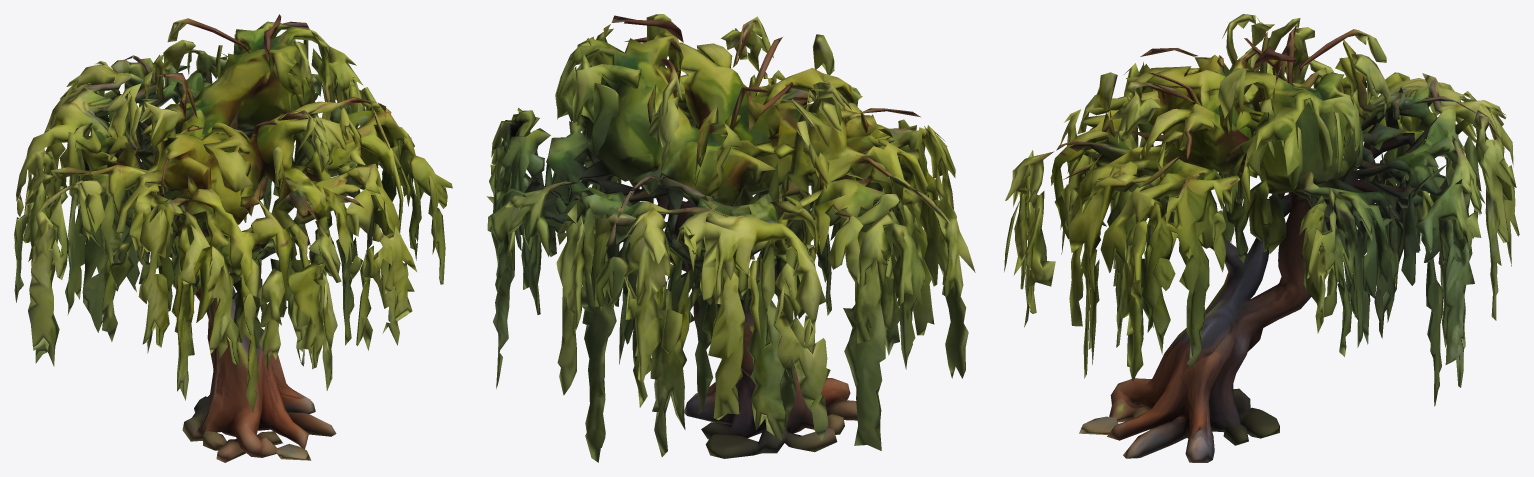
File: willow.glb
3 renders of one model, left to right at view 1: azimuth 30°, elevation 25°; view 2: azimuth 150°, elevation 25°; view 3: azimuth 270°, elevation 25°, orthographic. The views are drawn at different scales.
Visible parts, largest first — view 1: tripo_node_85bd1772-6d5d-450f-a834-8e45dceb9944; view 2: tripo_node_85bd1772-6d5d-450f-a834-8e45dceb9944; view 3: tripo_node_85bd1772-6d5d-450f-a834-8e45dceb9944.
Part boxes in pixels (x1,y1,x2,y2): tripo_node_85bd1772-6d5d-450f-a834-8e45dceb9944: (14,14,452,462); tripo_node_85bd1772-6d5d-450f-a834-8e45dceb9944: (487,14,975,462); tripo_node_85bd1772-6d5d-450f-a834-8e45dceb9944: (1004,14,1519,462).
Size of the model in its own units: 0.9706 by 0.8746 by 0.9937.
Materials: 1 (1 with a texture image).
